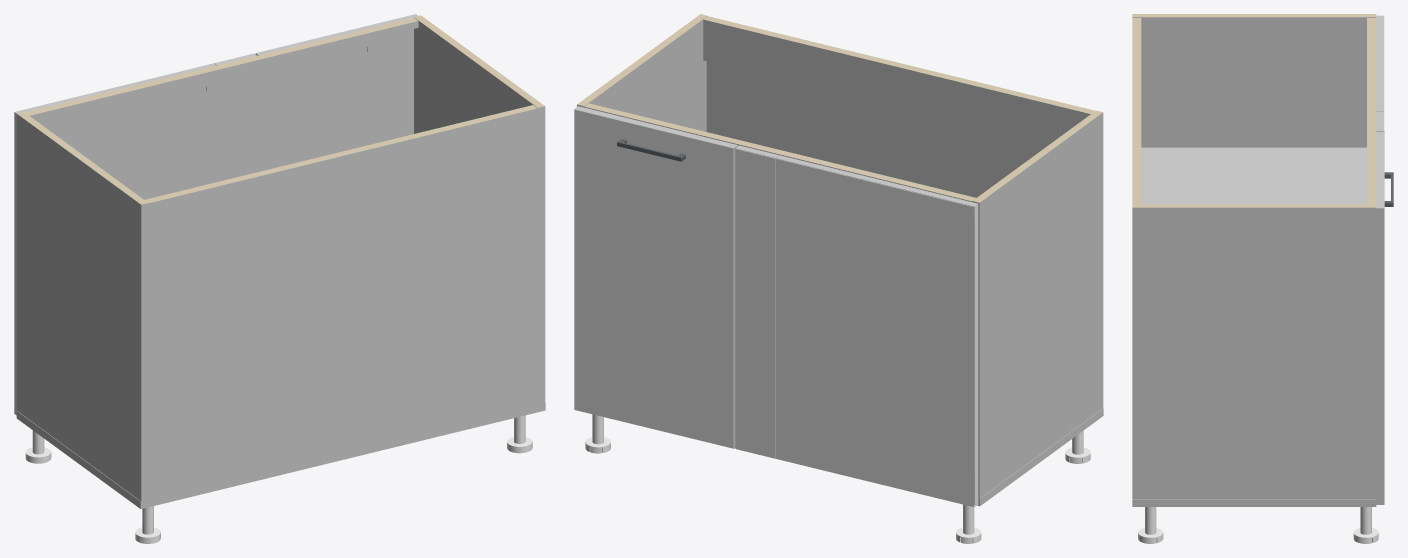
Rendered from el_ugao_100cm.glb.
The picture shows the model from 3 angles, left to right: view 1: azimuth 30°, elevation 25°; view 2: azimuth 150°, elevation 25°; view 3: azimuth 270°, elevation 25°; orthographic projection.
Parts seen in each view (by area): view 1: Group1, Group2; view 2: Group1, Group2; view 3: Group1, Group2.
Boxes of the visible parts, x1,y1,x2,y2 form: Group1: (14, 14, 545, 508); Group2: (25, 415, 532, 543); Group1: (574, 14, 1103, 506); Group2: (585, 414, 1090, 543); Group1: (1132, 14, 1393, 506); Group2: (1138, 507, 1378, 543).
Size of the model in its own units: 1002 by 815 by 570.
